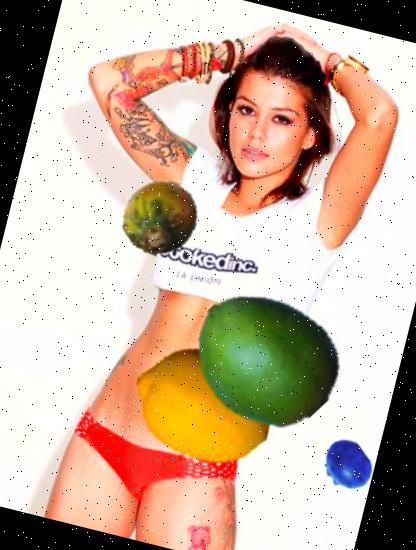Cactus: (114, 172, 206, 264)
Huckleberry: (315, 434, 380, 498)
Lemon: (119, 321, 287, 489)
Mango: (175, 268, 356, 448)
